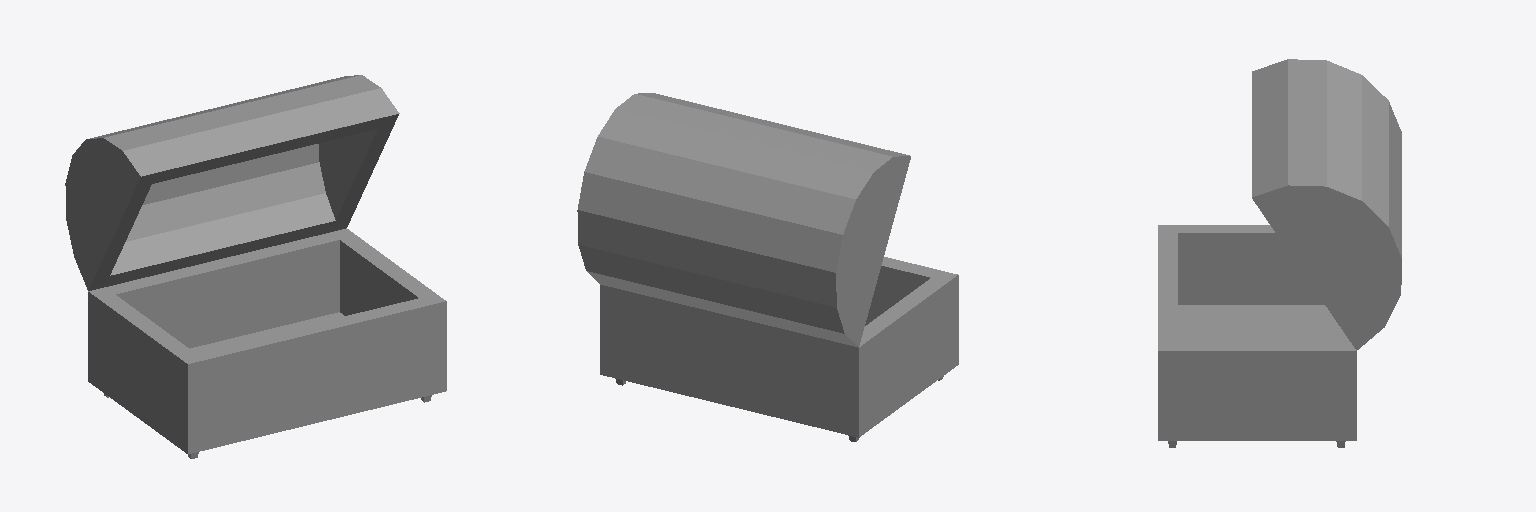
Rendered from chest.obj.
3 views of the same model, side by side, from view 1: azimuth 30°, elevation 25°; view 2: azimuth 150°, elevation 25°; view 3: azimuth 270°, elevation 25° (orthographic).
Visible parts, largest first — view 1: Cube; view 2: Cube; view 3: Cube.
Part boxes in pixels (bbox=[...]): Cube: bbox=[65, 75, 446, 458]; Cube: bbox=[577, 93, 958, 441]; Cube: bbox=[1158, 59, 1401, 447].
Size of the model in its own units: 3 by 2.96 by 2.46.